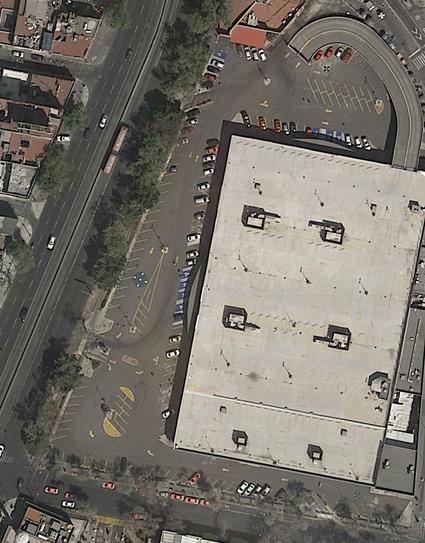parkingspot: (106, 190, 170, 310), (233, 257, 382, 308), (156, 250, 201, 408), (235, 141, 384, 183), (240, 111, 372, 152), (246, 230, 381, 268), (184, 430, 309, 470), (244, 302, 366, 338), (169, 471, 300, 504), (230, 402, 342, 437), (266, 180, 374, 216), (157, 106, 202, 186), (185, 144, 221, 244), (212, 352, 294, 390), (271, 327, 362, 358), (380, 292, 409, 378), (286, 363, 342, 401), (51, 386, 88, 441), (312, 88, 380, 116), (396, 219, 424, 284), (306, 77, 373, 103), (54, 447, 121, 473), (325, 500, 388, 522), (320, 458, 372, 482), (311, 44, 357, 65), (127, 463, 179, 481), (198, 57, 226, 89), (344, 227, 382, 248), (114, 395, 134, 434), (234, 42, 269, 62), (158, 405, 178, 438), (131, 301, 150, 335), (353, 425, 380, 446), (111, 386, 128, 416), (286, 216, 304, 235), (213, 49, 228, 61)
